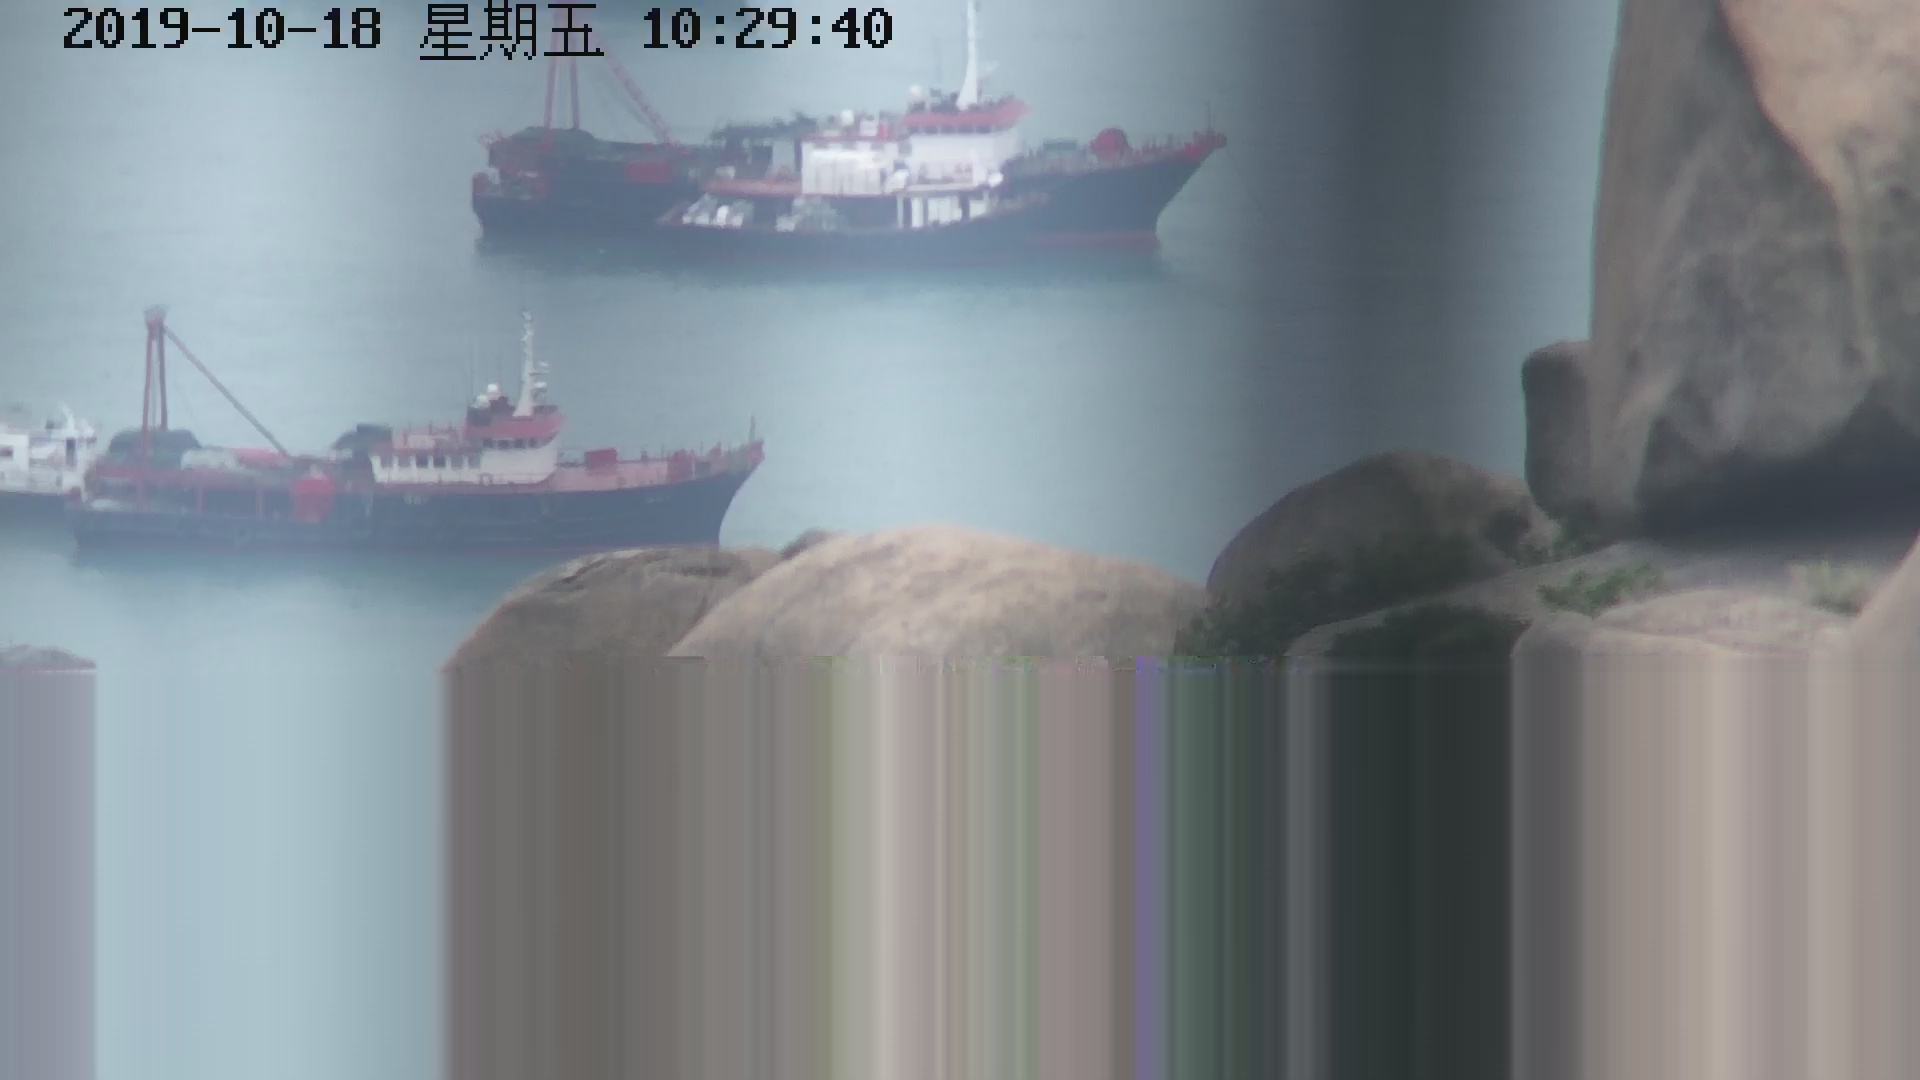ship: (462, 18, 1216, 255), (67, 280, 761, 527)
